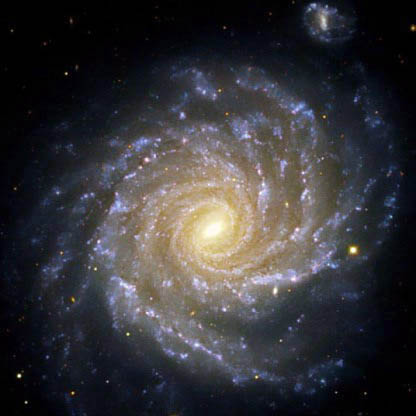NGC 1232: (35, 5, 403, 403)
